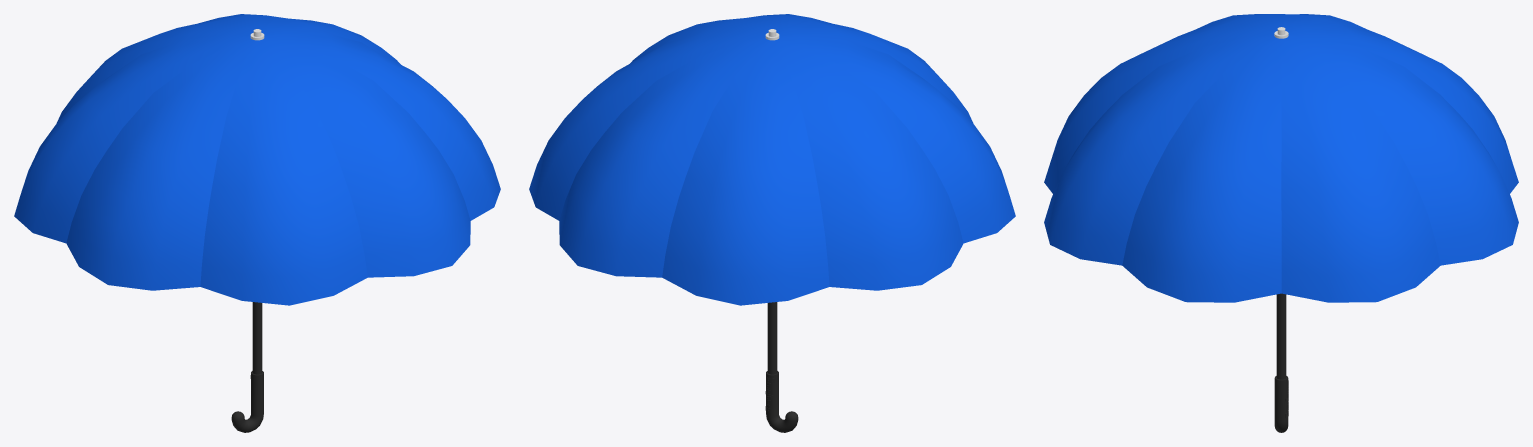
Rendered from umbrella.glb.
3 views of the same model, side by side, from view 1: azimuth 30°, elevation 25°; view 2: azimuth 150°, elevation 25°; view 3: azimuth 270°, elevation 25° (orthographic). The views are drawn at different scales.
Parts seen in each view (by area): view 1: Circle.1779; view 2: Circle.1779; view 3: Circle.1779.
Boxes of the visible parts, x1,y1,x2,y2 form: Circle.1779: [14, 14, 500, 432]; Circle.1779: [529, 14, 1015, 432]; Circle.1779: [1044, 14, 1518, 432].
Bounding box in the file's own units: 2.28 × 2.16 × 2.28.
Materials: 1 (1 with a texture image).
